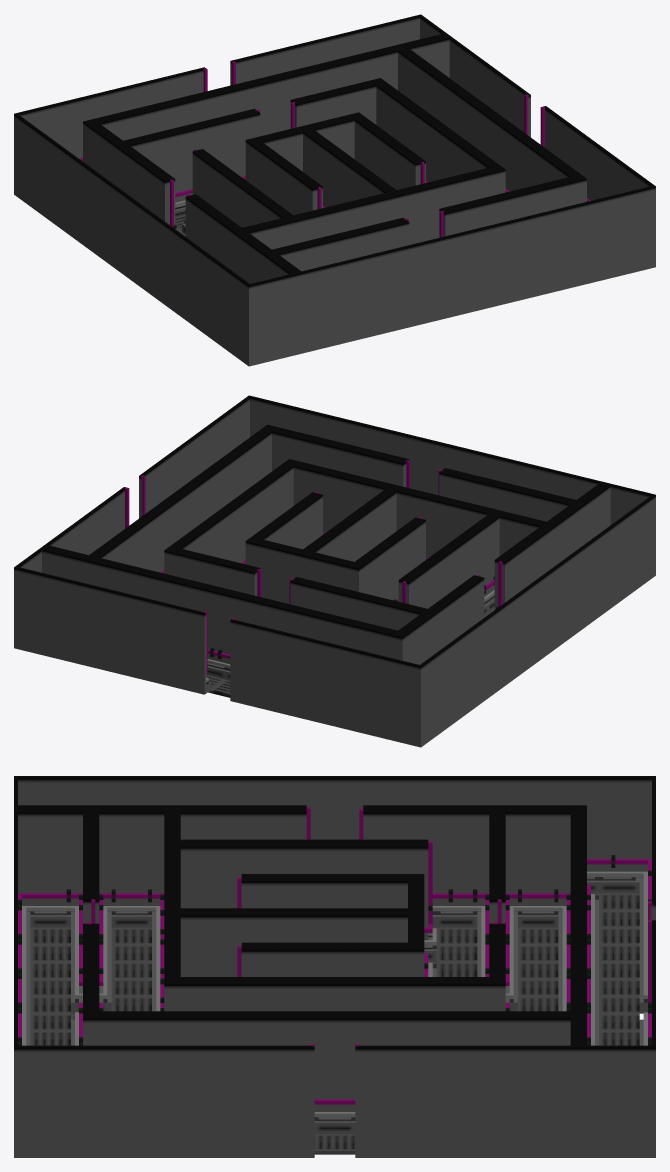
The model's file is Level02pt3.fbx.
The picture shows the model from 3 angles, top to bottom: view 1: azimuth 30°, elevation 25°; view 2: azimuth 150°, elevation 25°; view 3: azimuth 270°, elevation 25°; orthographic projection. The views are drawn at different scales.
Parts seen in each view (by area): view 1: Union_195; view 2: Union_195; view 3: Union_195.
Part boxes in pixels (x1,y1,x2,y2): Union_195: (14,14,655,366); Union_195: (14,395,655,747); Union_195: (14,776,655,1157).
Size of the model in its own units: 158 by 31 by 158.
